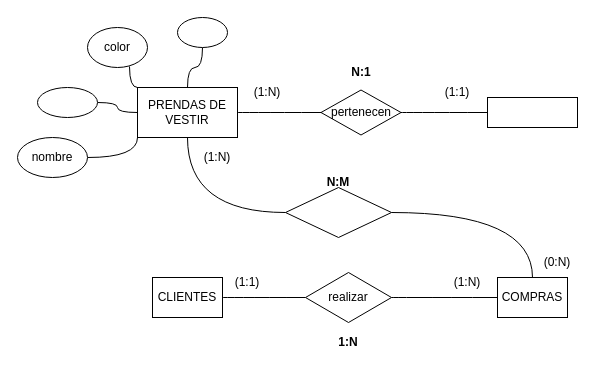
Some shapes in this 605 by 375 pixel diagram are drawn without their labels. The shapes that lost their labels are listed below. From the top down, each one's centre as x and y in pixels, then its label:
(x=202, y=32): precio
(x=67, y=102): talla
(x=532, y=112): MARCAS
(x=338, y=212): incluye
